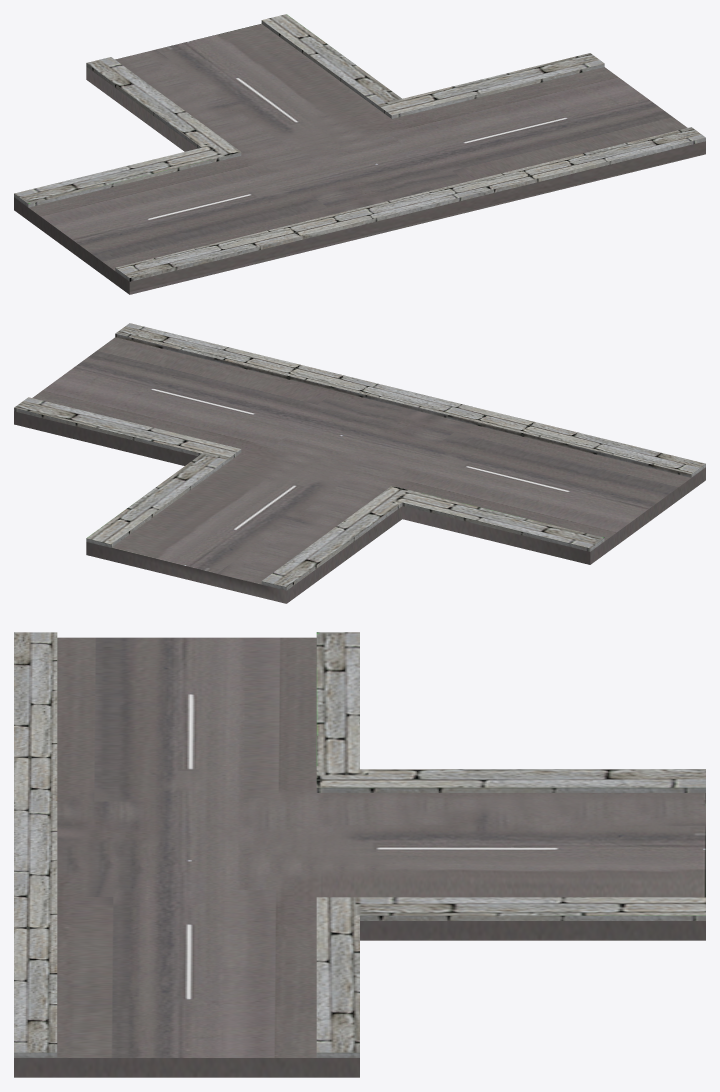
The model's file is T Road(Small).FBX.
3 views of the same model, one above another, from view 1: azimuth 30°, elevation 25°; view 2: azimuth 150°, elevation 25°; view 3: azimuth 270°, elevation 25° (orthographic). The views are drawn at different scales.
Visible parts, largest first — view 1: T Road(Small); view 2: T Road(Small); view 3: T Road(Small).
Part boxes in pixels (x1,y1,x2,y2): T Road(Small): (14, 14, 705, 294); T Road(Small): (14, 323, 705, 603); T Road(Small): (14, 632, 705, 1077).
Bounding box in the file's own units: 2300 × 63.69 × 1600.
